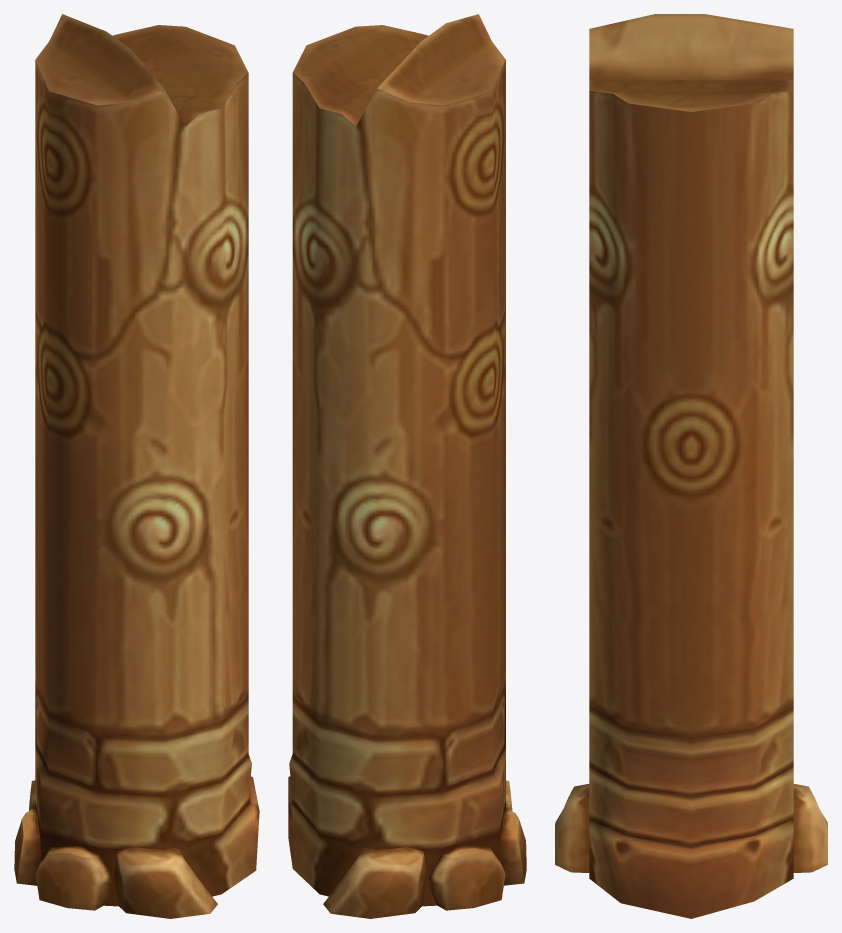
The model's file is Stage_ShaMo_ZhuZi03.FBX.
3 views of the same model, side by side, from view 1: azimuth 30°, elevation 25°; view 2: azimuth 150°, elevation 25°; view 3: azimuth 270°, elevation 25° (orthographic).
Parts seen in each view (by area): view 1: Stage_ShaMo_ZhuZi03; view 2: Stage_ShaMo_ZhuZi03; view 3: Stage_ShaMo_ZhuZi03.
Part boxes in pixels (<box>): Stage_ShaMo_ZhuZi03: <box>14,14,259,918</box>; Stage_ShaMo_ZhuZi03: <box>288,14,526,918</box>; Stage_ShaMo_ZhuZi03: <box>555,14,827,918</box>.
Size of the model in its own units: 141 by 499 by 147.
